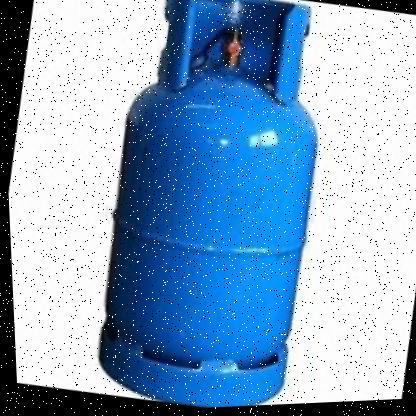gas-tank: (63, 0, 363, 413)
